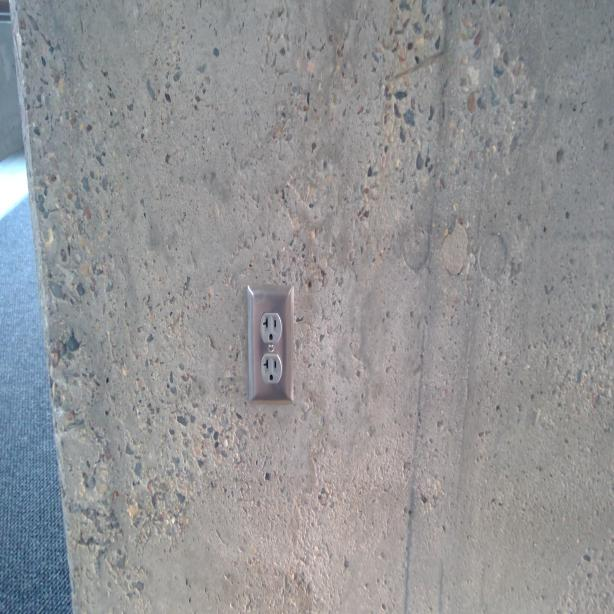typeb: (259, 310, 284, 346), (260, 352, 284, 386)
